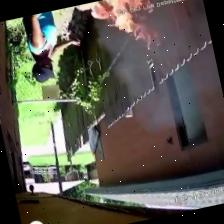person: (23, 11, 79, 81)
